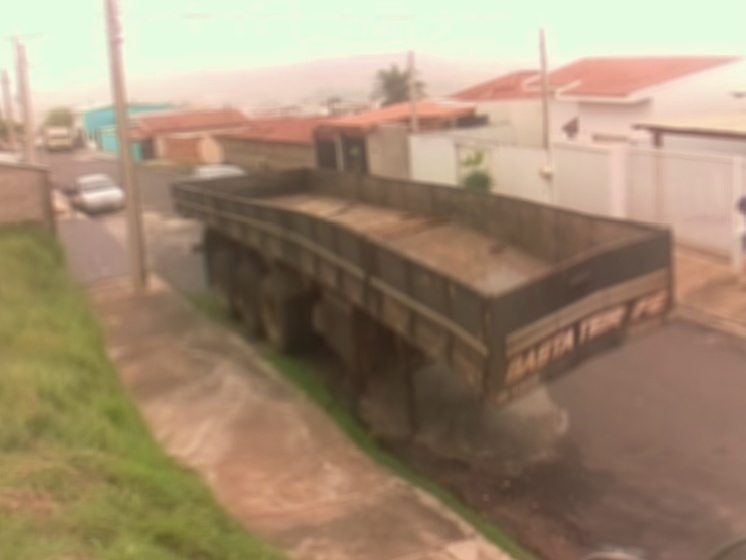person: (731, 180, 746, 293)
